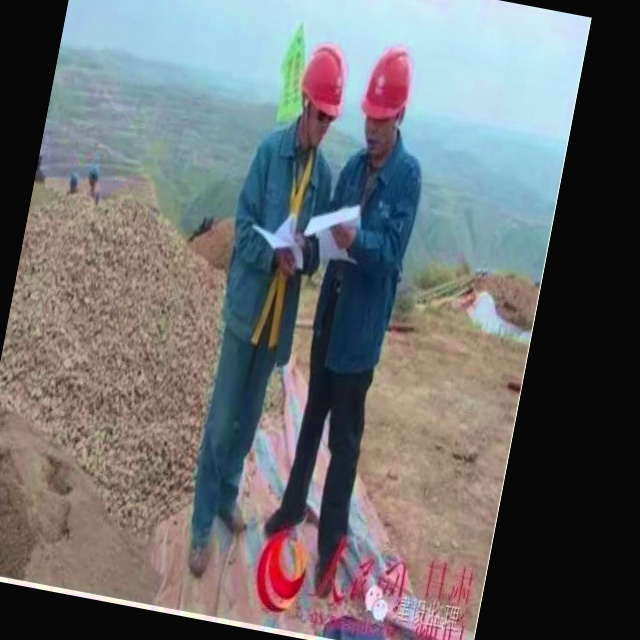Con_Casco: (352, 37, 424, 158), (294, 41, 350, 141)
